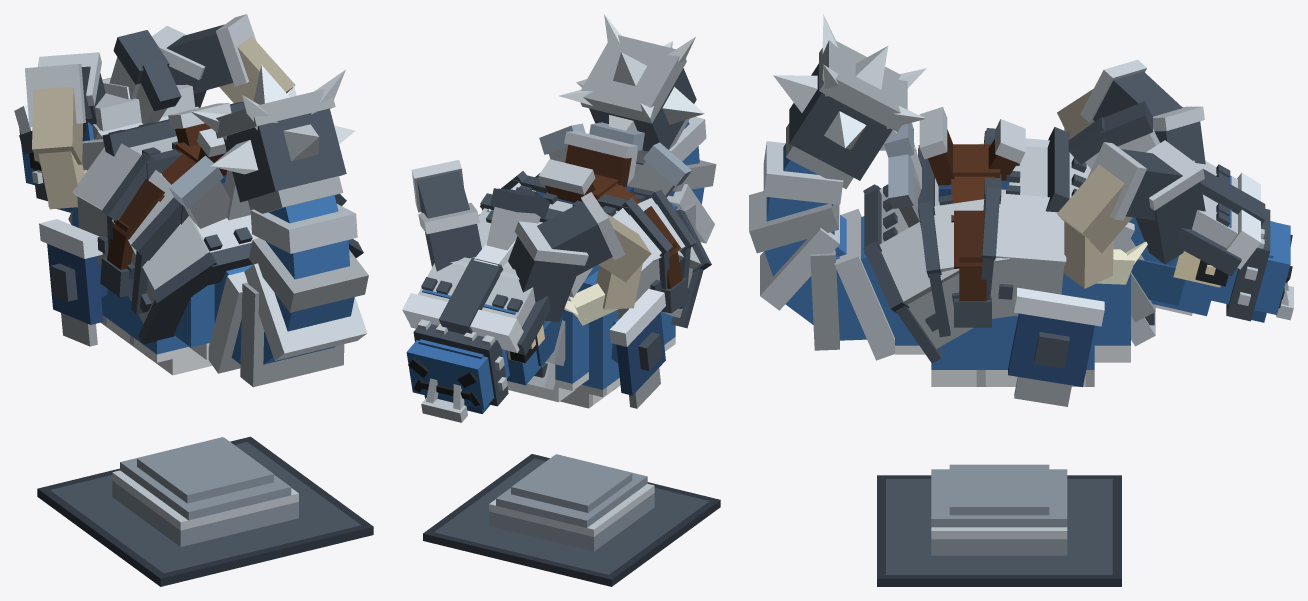
The model's file is SeahorseRocker5.obj.
3 views of the same model, side by side, from view 1: azimuth 30°, elevation 25°; view 2: azimuth 150°, elevation 25°; view 3: azimuth 270°, elevation 25° (orthographic). The views are drawn at different scales.
Visible parts, largest first — view 1: Body, Stand, Head, T6, FinL, T4, T5, T3, T2, Fan, T1; view 2: Head, Stand, Body, T6, FinL, Fan, T5, T3, T4; view 3: Body, Head, Stand, T6, FinR, T1, T3, T4, T2, T5, Fan.
Part boxes in pixels (x1,y1,x2,y2): Body: (68,102,363,375); Stand: (37,436,373,586); Head: (14,14,295,212); T6: (190,65,355,223); FinL: (39,219,107,346); T4: (248,238,368,331); T5: (250,204,357,279); T3: (244,263,367,364); T2: (231,282,344,387); Fan: (169,149,250,228); T1: (208,264,252,373); Head: (402,160,651,422); Stand: (423,454,720,586); Body: (478,131,711,408); T6: (559,14,704,154); FinL: (609,288,665,408); Fan: (539,122,691,197); T5: (636,117,706,165); T3: (667,184,714,243); T4: (634,160,716,205); Body: (863,107,1155,386); Head: (1057,59,1293,322); Stand: (877,464,1121,586); T6: (773,14,926,188); FinR: (1008,287,1104,406); T1: (834,209,894,360); T3: (760,204,846,324); T4: (749,191,838,276); T2: (810,250,866,350); T5: (763,141,843,221); Fan: (884,123,921,227).
Size of the model in its own units: 13.36 by 24.13 by 24.02.
1 material, 1 textured.
